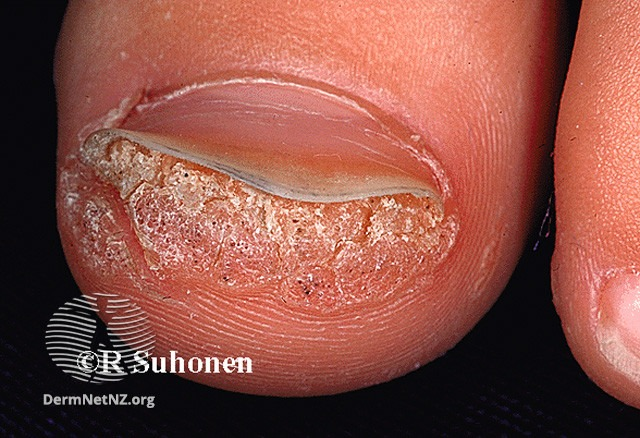Warts: (71, 96, 466, 290)
